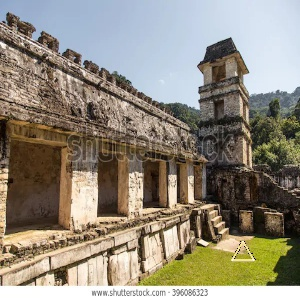triangle: (228, 237, 256, 263)
